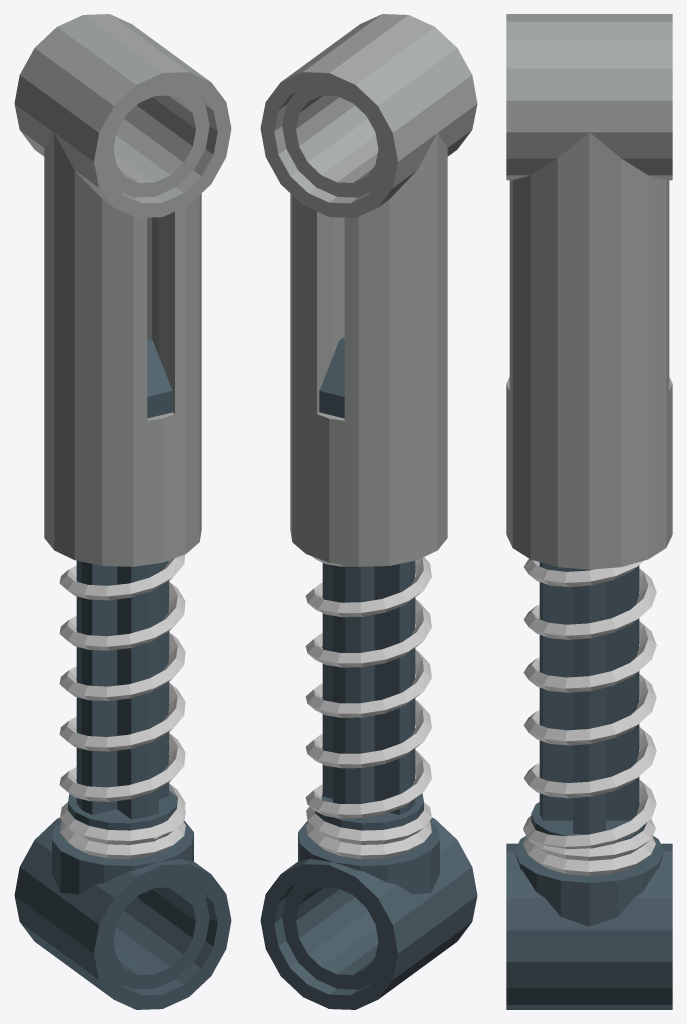
3 views of the same model, side by side, from view 1: azimuth 30°, elevation 25°; view 2: azimuth 150°, elevation 25°; view 3: azimuth 270°, elevation 25° (orthographic). The views are drawn at different scales.
Parts seen in each view (by area): view 1: world; view 2: world; view 3: world.
Part boxes in pixels (bbox=[...]): world: bbox=[14, 14, 231, 1009]; world: bbox=[260, 14, 477, 1009]; world: bbox=[506, 14, 672, 1009].
Size of the model in its own units: 0.008 by 0.052 by 0.008.
